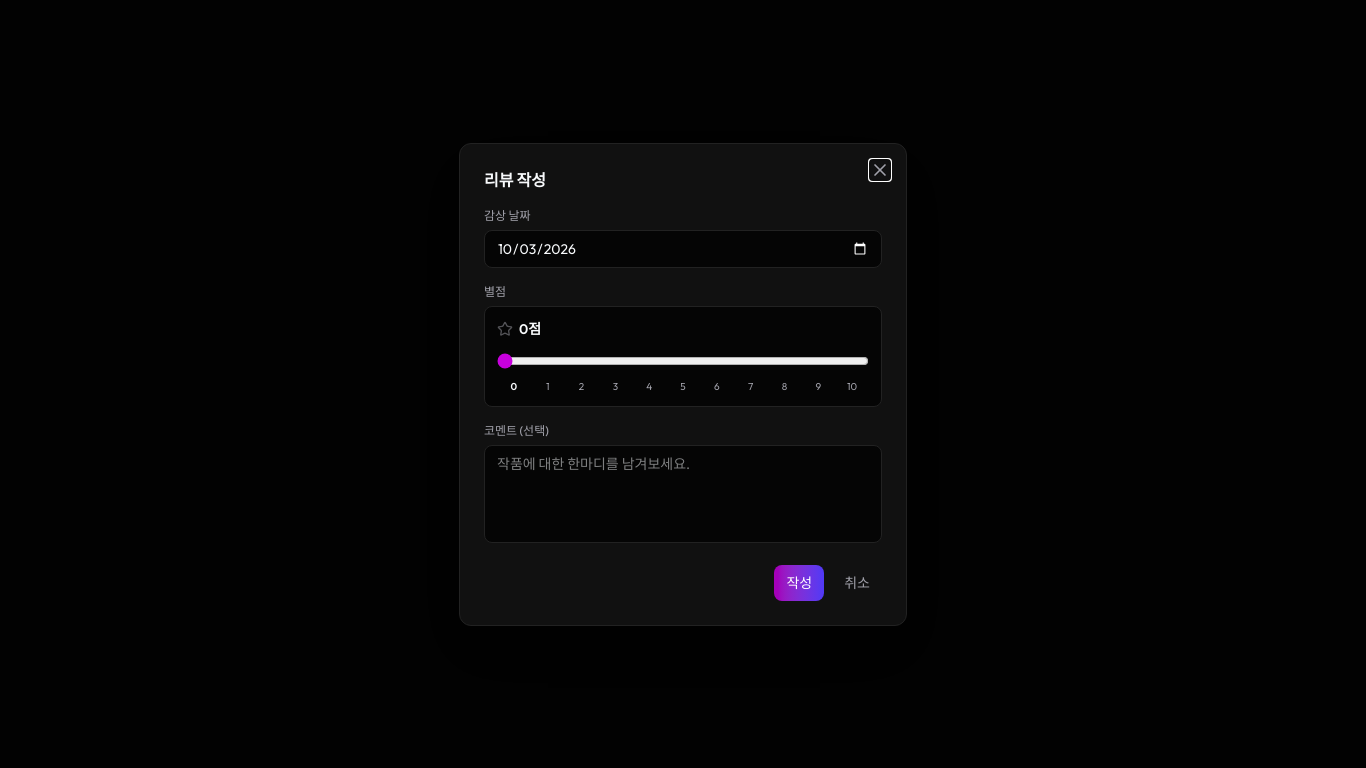
Test: ReviewFormModal › 별점 선택 시 에러가 사라져야 한다
Click the button "작성" at (799, 582), box [774,564,824,600]
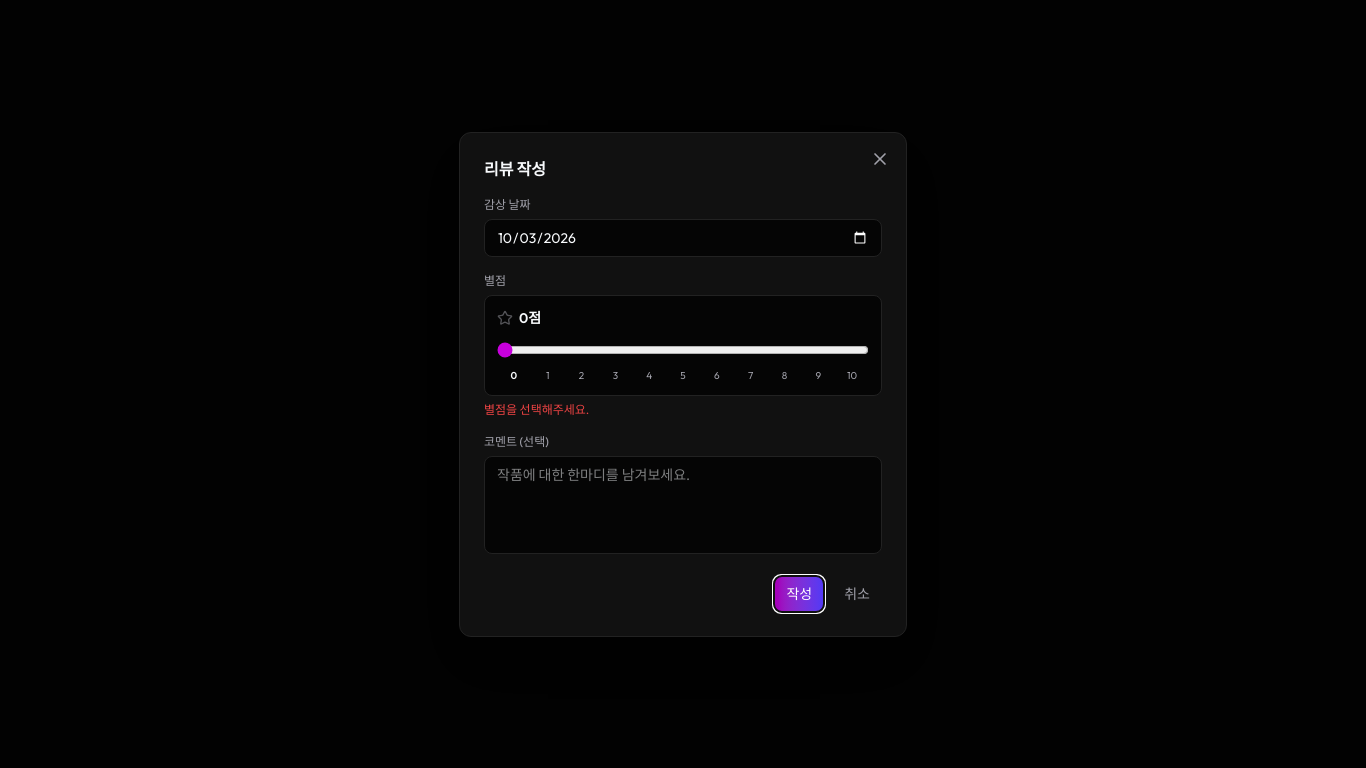
Now the text "별점을 선택해주세요." is shown, box [484,402,589,416]
Set the slider named "별점 선택" to "5" at (683, 350), box [497,346,869,354]
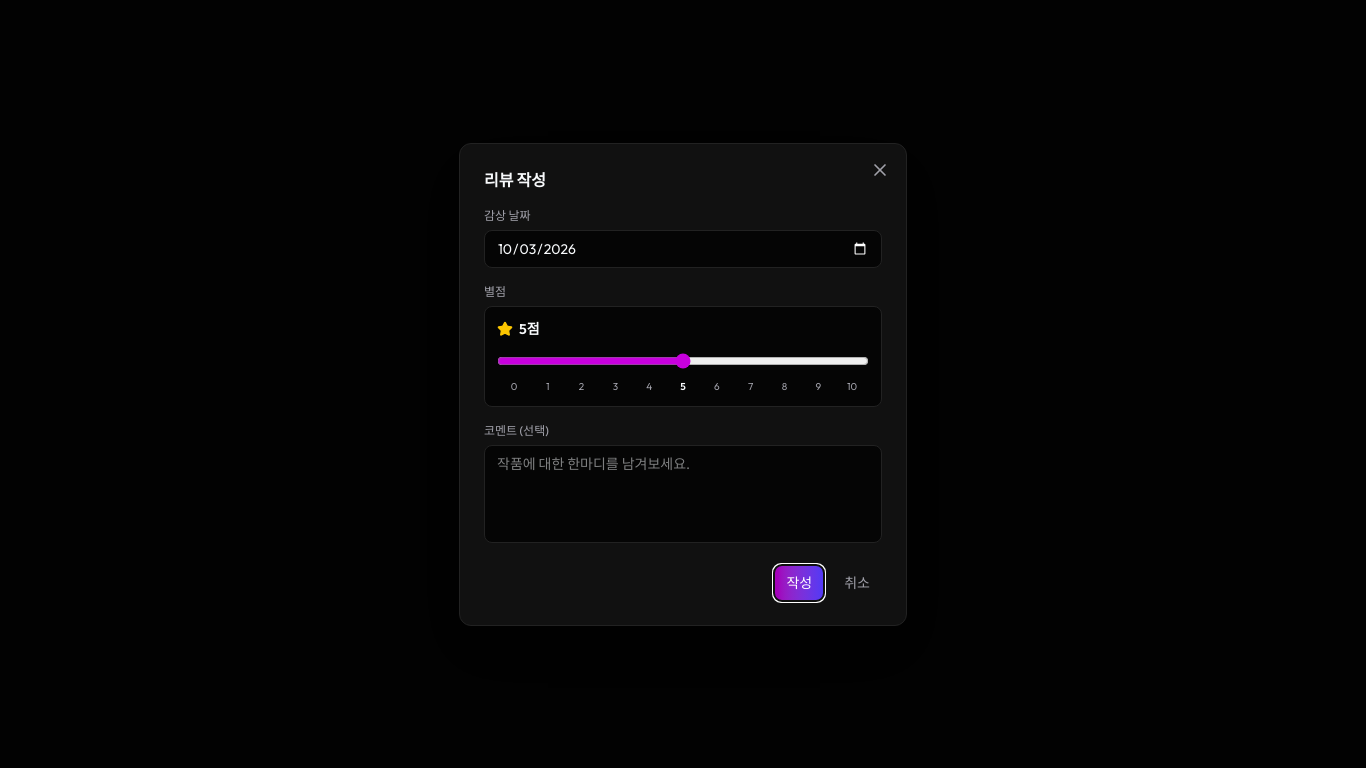
Now the text "별점을 선택해주세요." is gone
